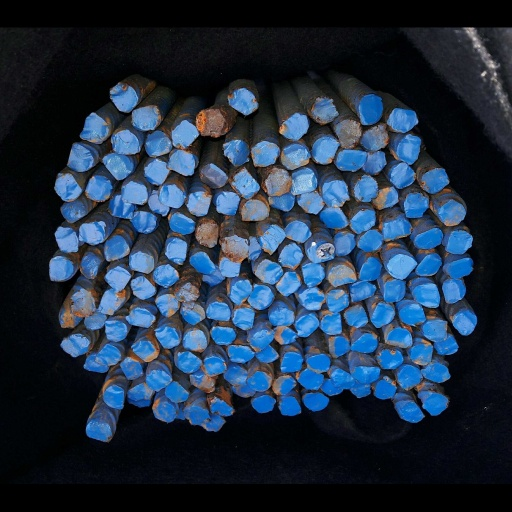dipstick: (230, 169, 259, 199), (103, 152, 134, 180), (360, 122, 389, 151), (110, 83, 138, 113), (80, 113, 108, 143), (166, 150, 198, 176), (54, 172, 81, 202), (172, 120, 199, 149), (228, 88, 257, 115), (279, 113, 308, 140), (259, 224, 285, 254), (387, 253, 417, 279), (358, 94, 383, 125), (387, 108, 418, 133), (221, 235, 249, 262), (265, 168, 292, 196), (311, 137, 339, 164), (322, 180, 349, 208), (67, 143, 93, 172), (336, 120, 362, 149), (196, 110, 223, 137), (281, 144, 309, 170), (131, 105, 160, 130), (336, 148, 366, 172), (84, 175, 111, 201), (112, 130, 140, 155), (251, 141, 279, 166), (397, 134, 420, 164), (145, 130, 171, 156), (104, 235, 130, 261), (201, 163, 227, 189), (223, 140, 249, 166), (312, 97, 338, 123), (390, 162, 416, 188), (439, 200, 465, 226), (370, 301, 395, 328), (71, 289, 95, 317), (412, 283, 440, 307), (60, 334, 89, 357), (328, 264, 357, 287), (382, 219, 412, 241), (54, 226, 79, 252), (104, 266, 130, 291), (248, 284, 273, 310), (291, 169, 317, 194), (422, 168, 448, 193), (354, 175, 378, 202), (188, 251, 216, 274), (320, 206, 348, 229), (276, 271, 301, 296), (404, 193, 429, 218), (447, 230, 472, 255), (452, 310, 477, 335), (130, 275, 156, 299), (153, 264, 179, 288), (256, 260, 282, 284), (279, 243, 303, 269), (121, 181, 148, 204), (297, 191, 324, 214), (421, 392, 448, 415), (395, 400, 423, 422), (414, 228, 443, 249), (144, 160, 169, 184), (109, 195, 134, 219), (49, 256, 73, 281), (158, 185, 183, 209), (187, 191, 211, 216), (350, 209, 375, 233), (397, 365, 421, 390), (79, 222, 105, 245), (284, 221, 310, 244), (415, 253, 441, 276), (165, 238, 187, 265), (442, 279, 466, 303), (229, 280, 252, 305), (333, 232, 356, 257), (359, 256, 382, 281), (60, 201, 86, 223), (146, 370, 172, 392), (357, 229, 383, 251), (443, 258, 473, 277), (399, 304, 426, 325), (127, 308, 155, 328), (120, 356, 143, 380), (155, 294, 179, 317), (195, 223, 218, 247), (302, 263, 325, 287), (363, 151, 386, 175), (95, 344, 120, 366), (182, 330, 207, 352), (295, 315, 320, 337), (300, 288, 325, 310), (373, 187, 398, 209), (169, 212, 195, 233), (386, 327, 412, 348), (80, 252, 100, 279), (241, 200, 268, 220), (422, 362, 449, 382), (216, 192, 239, 215), (132, 211, 156, 233), (99, 291, 121, 315), (177, 351, 201, 373), (298, 369, 323, 390), (249, 330, 274, 351), (408, 344, 433, 365), (422, 320, 447, 341), (132, 341, 158, 361), (86, 422, 112, 442), (350, 281, 376, 301), (189, 374, 216, 393), (104, 320, 127, 342), (165, 381, 188, 403), (176, 283, 199, 305), (344, 305, 367, 327), (383, 279, 405, 302), (130, 252, 154, 273), (103, 385, 124, 409), (223, 366, 247, 387), (331, 368, 355, 389), (151, 402, 176, 422), (180, 304, 205, 324), (148, 190, 168, 215), (352, 333, 377, 353), (378, 349, 403, 369), (210, 326, 236, 345), (268, 308, 295, 326), (320, 312, 342, 334), (328, 336, 350, 358), (156, 327, 179, 348), (202, 265, 225, 286), (206, 301, 230, 321), (248, 371, 272, 391), (126, 383, 154, 400), (352, 366, 380, 383), (84, 353, 109, 372), (185, 406, 210, 425), (228, 345, 254, 363), (303, 393, 329, 411), (327, 290, 349, 311), (273, 375, 296, 395), (59, 309, 83, 328), (210, 397, 234, 416), (202, 357, 226, 376), (433, 335, 457, 354), (233, 308, 253, 330), (279, 396, 301, 416), (280, 352, 302, 372), (307, 354, 330, 373), (252, 395, 276, 413), (255, 345, 279, 363), (219, 257, 240, 277), (375, 379, 396, 399), (273, 326, 296, 344), (320, 378, 343, 396), (85, 310, 106, 329), (204, 415, 225, 431)
